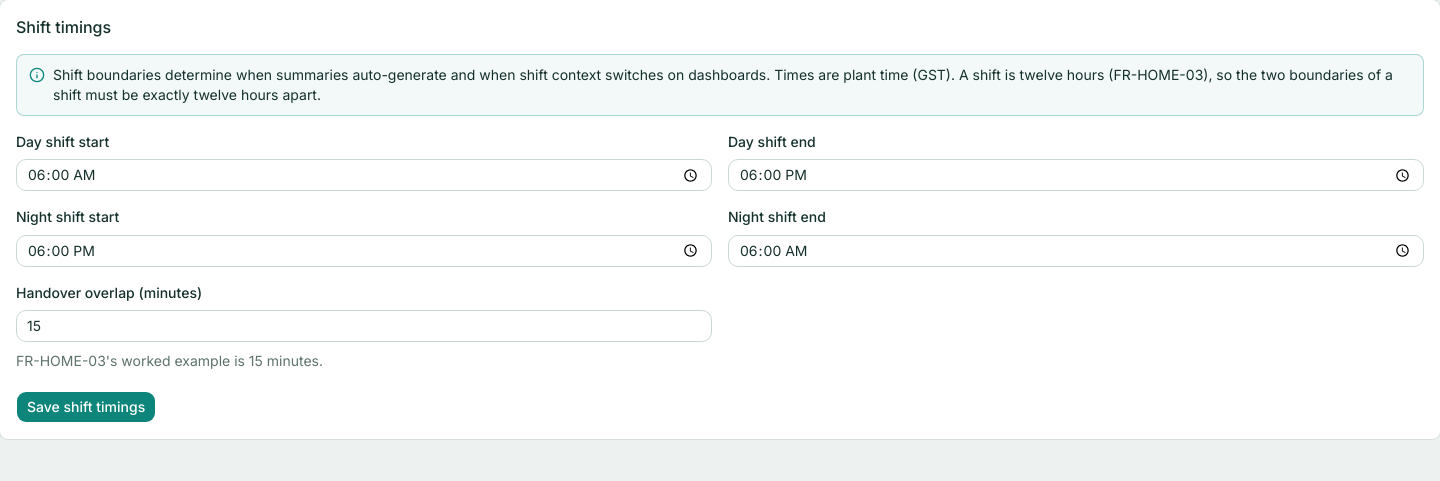
Test case: ShiftTimingsForm › refuses to submit a negative overlap, and says why
Replace the text in the number field labelled "Handover overlap (minutes)" with "-5" at [364, 326], box [16,310,712,342]
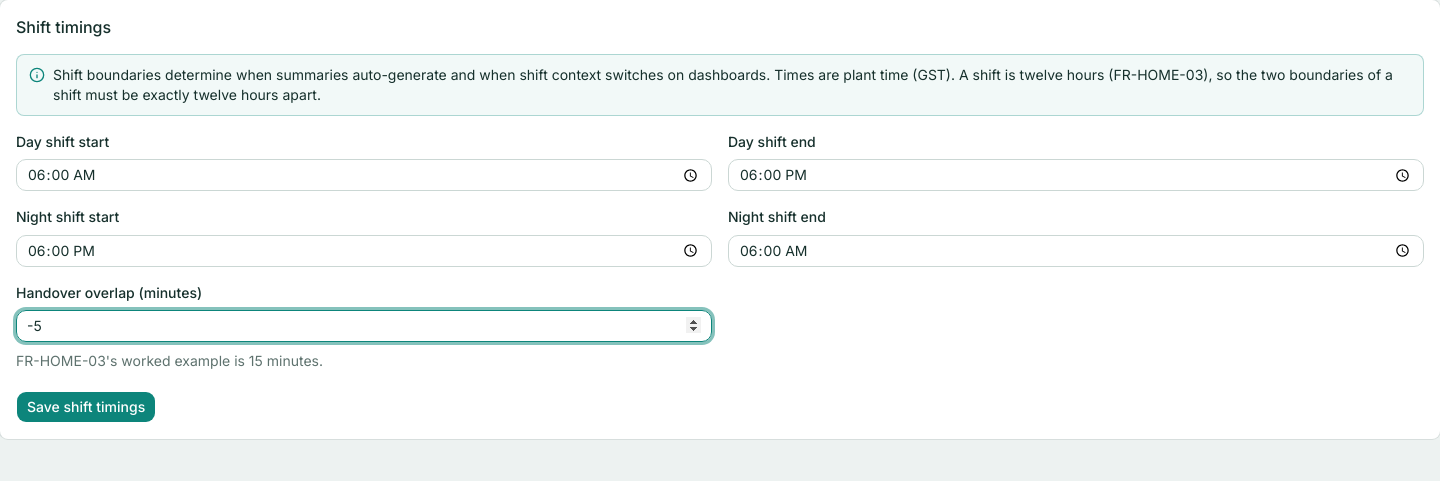
Click the button "Save shift timings".
click(86, 407)  # box [16,391,156,423]
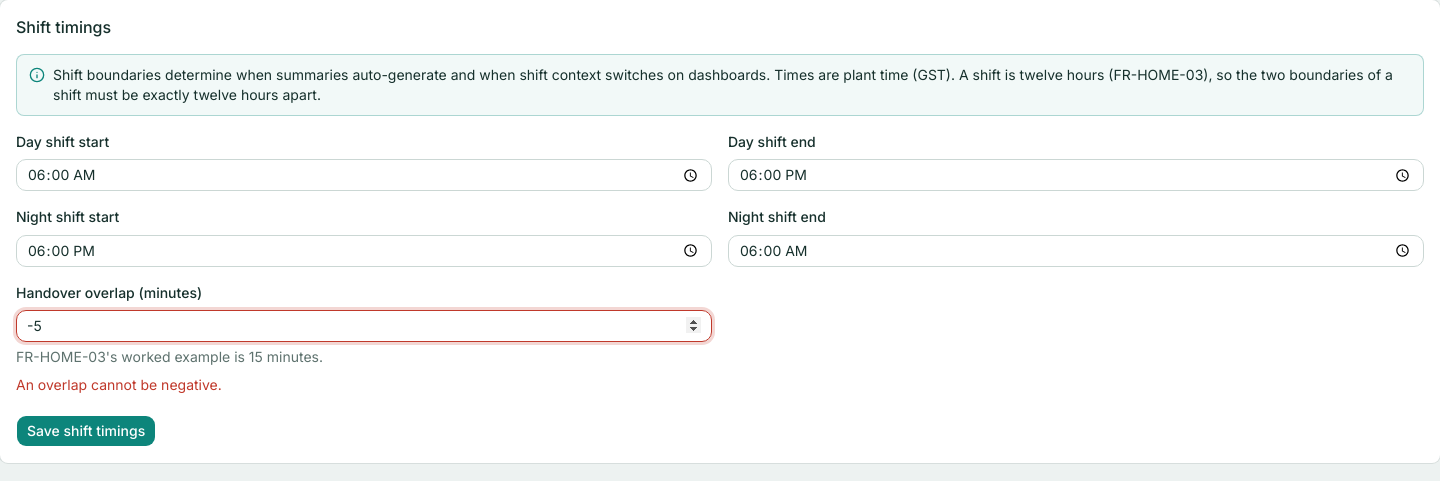
Now the text "An overlap cannot be negative." is shown, box [16,376,222,393]
